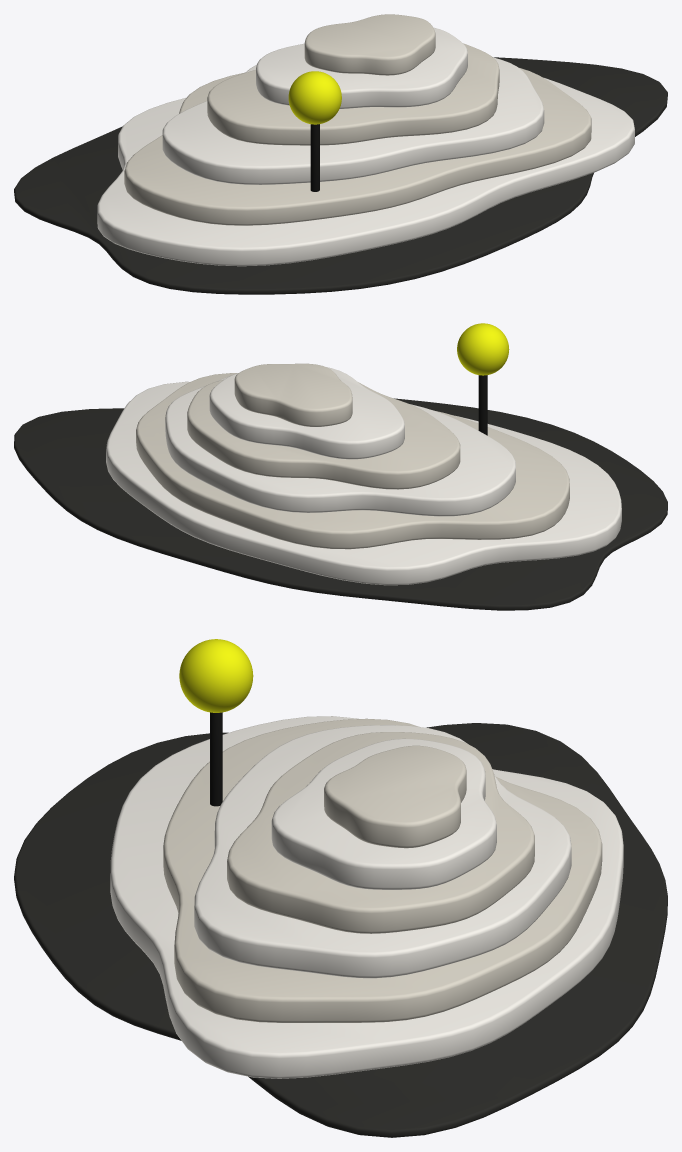
File: map.glb
The picture shows the model from 3 angles, top to bottom: view 1: azimuth 30°, elevation 25°; view 2: azimuth 150°, elevation 25°; view 3: azimuth 270°, elevation 25°; orthographic projection. The views are drawn at different scales.
Parts seen in each view (by area): view 1: blob, blob.001, blob.002, blob.003, blob.004, blob.005, blob.006, sph, cyl; view 2: blob, blob.001, blob.002, blob.003, blob.004, blob.005, blob.006, sph, cyl; view 3: blob, blob.001, blob.002, blob.003, blob.004, blob.005, blob.006, sph, cyl.
Part boxes in pixels (left/top/right/bottom): blob: left=14, top=57, right=667, bottom=294; blob.001: left=97, top=77, right=634, bottom=266; blob.002: left=124, top=68, right=591, bottom=225; blob.003: left=162, top=57, right=544, bottom=184; blob.004: left=207, top=43, right=499, bottom=145; blob.005: left=256, top=27, right=467, bottom=108; blob.006: left=304, top=14, right=435, bottom=75; sph: left=288, top=71, right=341, bottom=124; cyl: left=310, top=124, right=319, bottom=191; blob: left=14, top=398, right=667, bottom=610; blob.001: left=106, top=381, right=621, bottom=585; blob.002: left=136, top=373, right=569, bottom=549; blob.003: left=165, top=376, right=515, bottom=516; blob.004: left=187, top=379, right=460, bottom=489; blob.005: left=209, top=367, right=404, bottom=459; blob.006: left=234, top=363, right=352, bottom=426; sph: left=457, top=323, right=509, bottom=375; cyl: left=478, top=375, right=487, bottom=435; blob: left=14, top=723, right=667, bottom=1137; blob.001: left=110, top=716, right=623, bottom=1078; blob.002: left=163, top=718, right=602, bottom=1022; blob.003: left=194, top=725, right=571, bottom=978; blob.004: left=227, top=732, right=534, bottom=933; blob.005: left=271, top=738, right=496, bottom=889; blob.006: left=324, top=745, right=466, bottom=848; sph: left=179, top=639, right=253, bottom=712; cyl: left=210, top=712, right=222, bottom=806.
Size of the model in its own units: 6.81 by 1.71 by 4.6.
